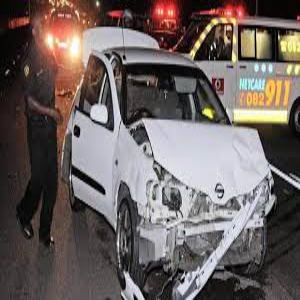bonnet: (140, 117, 270, 199)
bumper: (139, 199, 264, 285)
